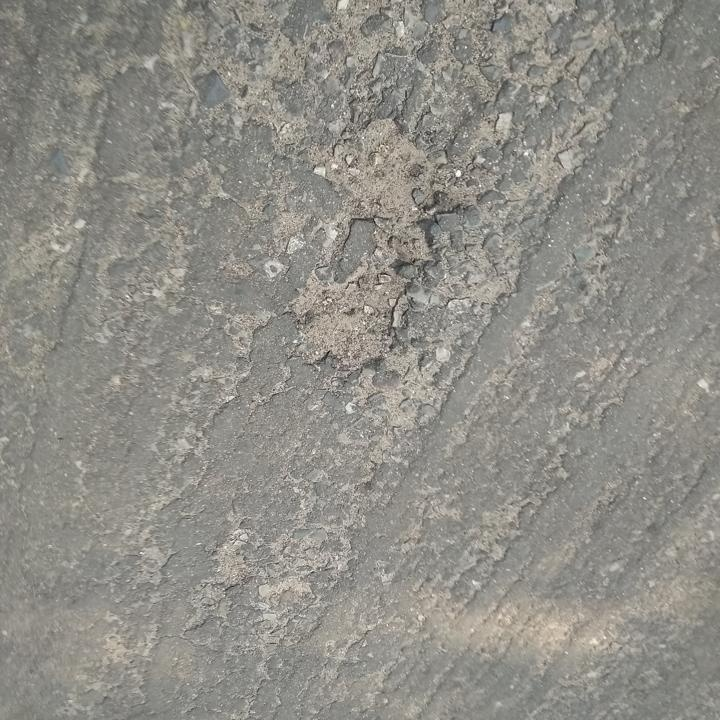pothole: (298, 117, 464, 372)
